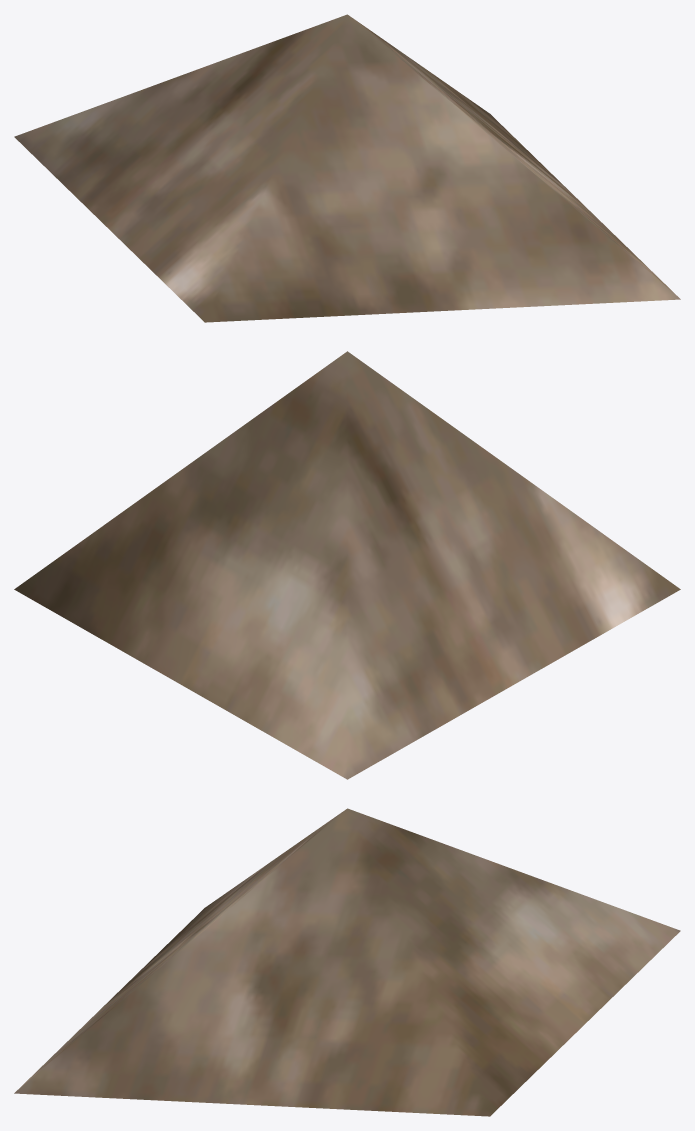
Rendered from OVERHILL_A_01_PLANE20.fbx.
3 renders of one model, top to bottom at view 1: azimuth 30°, elevation 25°; view 2: azimuth 150°, elevation 25°; view 3: azimuth 270°, elevation 25°, orthographic. The views are drawn at different scales.
Visible parts, largest first — view 1: OVERHILL_A_01_PLANE20; view 2: OVERHILL_A_01_PLANE20; view 3: OVERHILL_A_01_PLANE20.
Boxes of the visible parts, x1,y1,x2,y2 form: OVERHILL_A_01_PLANE20: (14,14,680,322); OVERHILL_A_01_PLANE20: (14,351,680,779); OVERHILL_A_01_PLANE20: (14,808,680,1116).
Bounding box in the file's own units: 1021 × 465 × 1379.
Materials: 1 (1 with a texture image).
